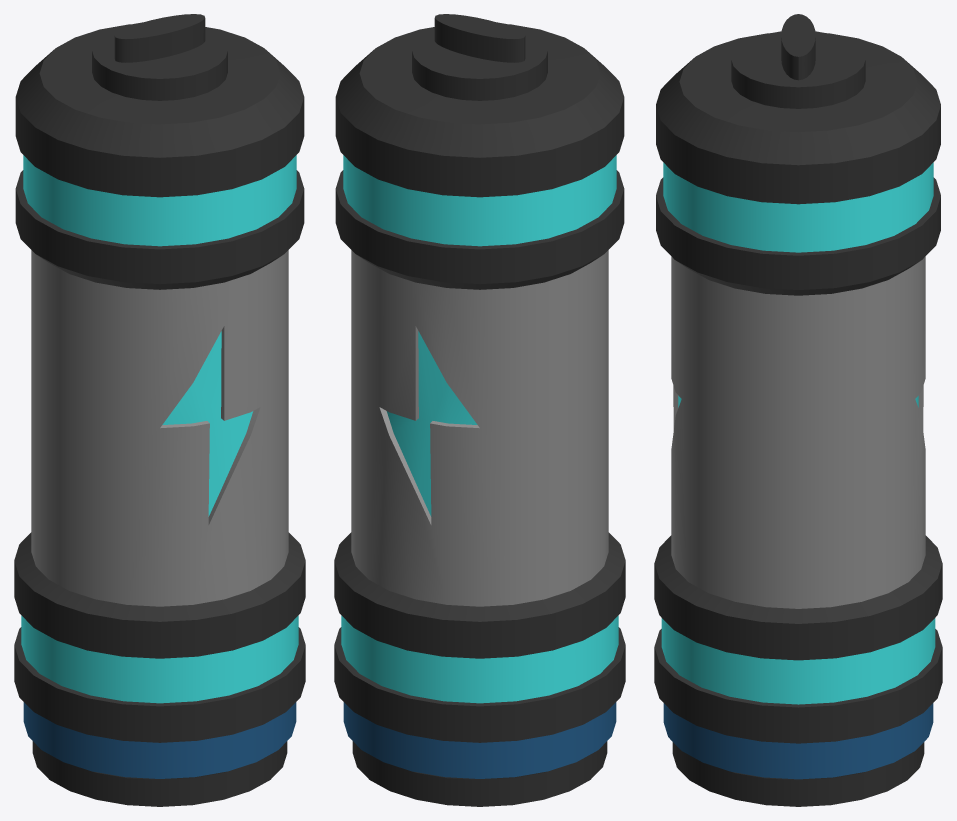
Rendered from energyCell.fbx.
The picture shows the model from 3 angles, left to right: view 1: azimuth 30°, elevation 25°; view 2: azimuth 150°, elevation 25°; view 3: azimuth 270°, elevation 25°; orthographic projection.
Parts seen in each view (by area): view 1: Circle; view 2: Circle; view 3: Circle.
Boxes of the visible parts, left/top/right/bottom form: Circle: left=14, top=14, right=305, bottom=806; Circle: left=334, top=14, right=625, bottom=806; Circle: left=654, top=14, right=942, bottom=806.
Size of the model in its own units: 229 by 630 by 229.
1 material, 1 textured.
